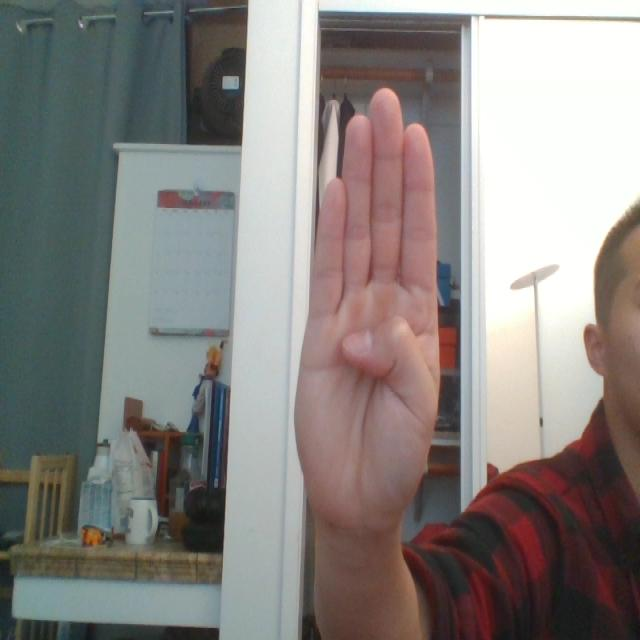B: (286, 75, 463, 540)
